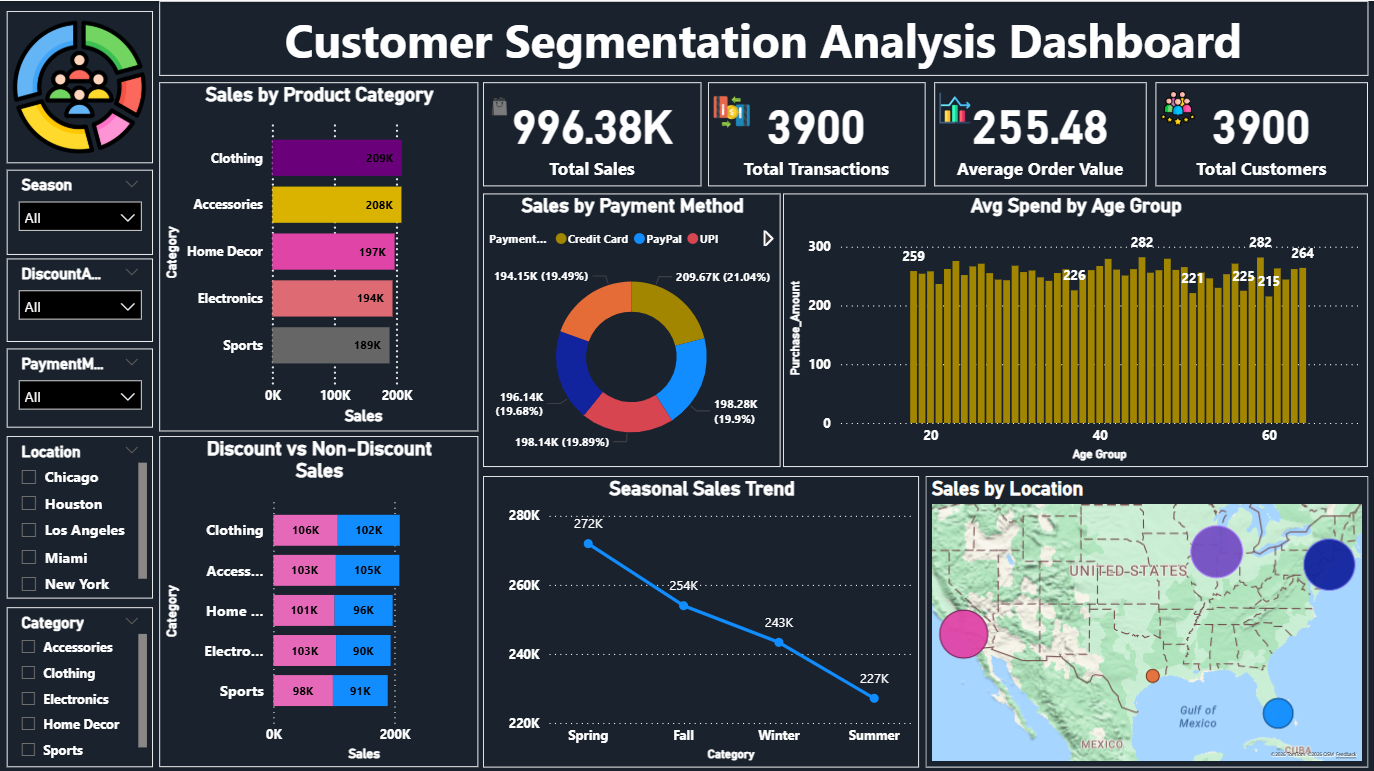

The page's visual inventory and layout, read from the dashboard file:
{"tool":"powerbi","page":{"name":"Dashboard","canvas":[1280,720],"ordinal":0},"visuals":[{"type":"shape","box":[150,0,1124.4,69.8],"z":0},{"type":"card","fields":{"Values":["shopping_trends.Total Sales"]},"box":[451.2,75.6,203.5,96.5],"z":1000},{"type":"card","fields":{"Values":["shopping_trends.Total Transactions"]},"box":[660.5,75.6,202.3,96.5],"z":2000},{"type":"card","fields":{"Values":["shopping_trends.Average Order Value"]},"box":[870.9,75.6,197.7,96.5],"z":3000},{"type":"card","fields":{"Values":["shopping_trends.Total Customers"]},"box":[1076.7,75.6,197.7,96.5],"z":4000},{"type":"barChart","title":"Sales by Product Category","fields":{"Y":["Sum(shopping_trends.PurchaseAmountUSD)"],"Category":["shopping_trends.Category"]},"box":[150,75.6,296.5,324.4],"z":5000},{"type":"donutChart","title":"Sales by Payment Method","fields":{"Category":["shopping_trends.PaymentMethod"],"Y":["Sum(shopping_trends.PurchaseAmountUSD)"]},"box":[451.2,179.1,276.7,254.7],"z":6000},{"type":"columnChart","title":"Avg Spend by Age Group","fields":{"Category":["shopping_trends.Age"],"Y":["Avg(shopping_trends.PurchaseAmountUSD)"]},"box":[730.2,179.1,544.2,254.7],"z":7000},{"type":"lineChart","title":"Seasonal Sales Trend","fields":{"Category":["shopping_trends.Season"],"Y":["shopping_trends.Total Sales"]},"box":[451.2,441.9,405.8,270.9],"z":8000},{"type":"barChart","title":"Discount vs Non-Discount Sales","fields":{"Category":["shopping_trends.Category"],"Y":["shopping_trends.Total Sales"],"Series":["shopping_trends.DiscountApplied"]},"box":[150,404.7,296.5,308.1],"z":9000},{"type":"azureMap","title":" Sales by Location","fields":{"Category":["shopping_trends.Location"],"Size":["shopping_trends.Total Sales"]},"box":[862.8,441.9,411.6,270.9],"z":10000},{"type":"slicer","fields":{"Values":["shopping_trends.Season"]},"box":[8.1,157,136,79.1],"z":11000},{"type":"slicer","fields":{"Values":["shopping_trends.Category"]},"box":[8.1,564,136,148.8],"z":12000},{"type":"slicer","fields":{"Values":["shopping_trends.PaymentMethod"]},"box":[8.1,323.3,136,73.3],"z":13000},{"type":"slicer","fields":{"Values":["shopping_trends.Location"]},"box":[8.1,404.7,136,151.2],"z":14000},{"type":"slicer","fields":{"Values":["shopping_trends.DiscountApplied"]},"box":[8.1,239.5,136,77.9],"z":15000},{"type":"image","box":[8.1,9.3,136,141.9],"z":16000},{"type":"image","box":[451.2,75.6,30.2,45.3],"z":17000},{"type":"image","box":[660.5,75.6,44.2,55.8],"z":18000},{"type":"image","box":[870.9,75.6,38.4,47.7],"z":19000},{"type":"image","box":[1076.7,79.1,41.9,41.9],"z":20000}]}

Visuals, with their boxes in screenshot pixels (x1, y1, x2, y2), scaled from the page's 1280x720 canvas onto the 1374x771 screenshot:
shape: 161, 0, 1368, 75
card - shopping_trends.Total Sales: 484, 81, 703, 184
card - shopping_trends.Total Transactions: 709, 81, 926, 184
card - shopping_trends.Average Order Value: 935, 81, 1147, 184
card - shopping_trends.Total Customers: 1156, 81, 1368, 184
"Sales by Product Category" barChart: 161, 81, 479, 428
"Sales by Payment Method" donutChart: 484, 192, 781, 465
"Avg Spend by Age Group" columnChart: 784, 192, 1368, 465
"Seasonal Sales Trend" lineChart: 484, 473, 920, 763
"Discount vs Non-Discount Sales" barChart: 161, 433, 479, 763
" Sales by Location" azureMap: 926, 473, 1368, 763
slicer - shopping_trends.Season: 9, 168, 155, 253
slicer - shopping_trends.Category: 9, 604, 155, 763
slicer - shopping_trends.PaymentMethod: 9, 346, 155, 425
slicer - shopping_trends.Location: 9, 433, 155, 595
slicer - shopping_trends.DiscountApplied: 9, 256, 155, 340
image: 9, 10, 155, 162
image: 484, 81, 517, 129
image: 709, 81, 756, 141
image: 935, 81, 976, 132
image: 1156, 85, 1201, 130
